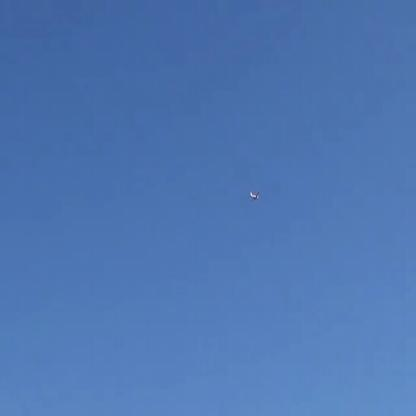CIV_Plane: (250, 191, 261, 201)
